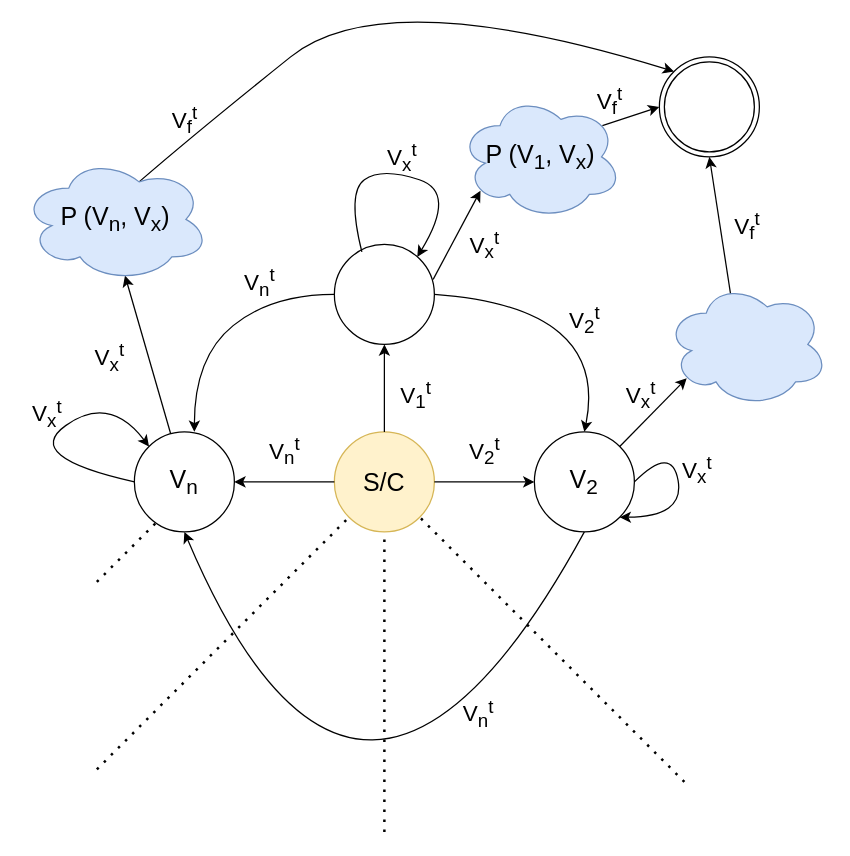
This 850x856 diagram has some shape labels left out. Each missing label, with the centre of its shape:
"F A" belongs at [708,106].
"P (V 2 , V x )" belongs at [746,344].
"V 1" belongs at [383,293].
